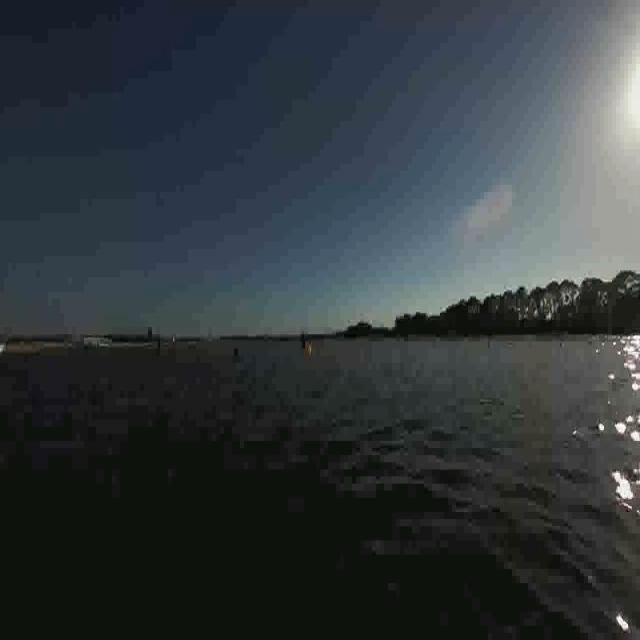yellow-buoy: (304, 341, 312, 357)
